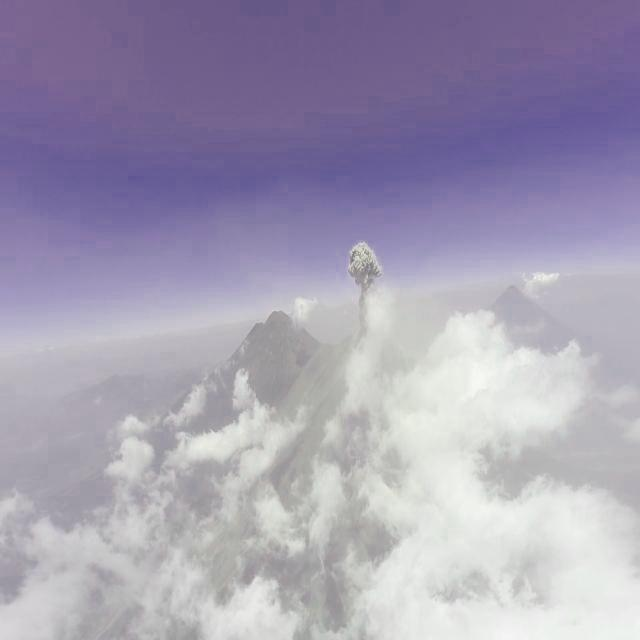Plume: (347, 238, 385, 294)
